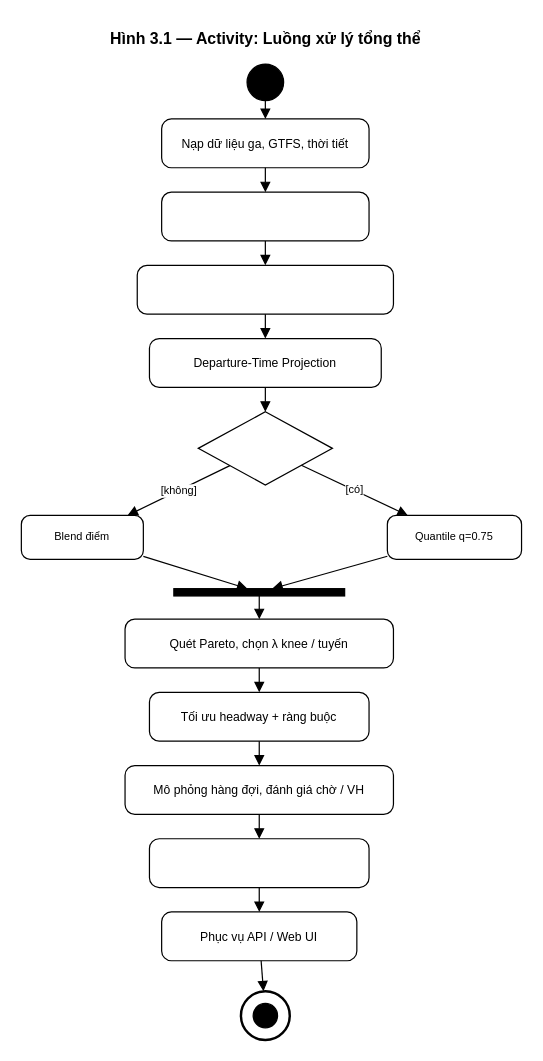
Image size: 543x1061. Some labels were removed from this diagram. Here are the shapes that lost their labels. From the top down, the centre of each, then its label:
At (264,216): "Tiền xử lý và tạo đặc trưng".
At (264,289): "Dự báo nhu cầu cấp ga (MLP + HistGBM)".
At (264,448): "Kịch bản mưa?".
At (258,863): "Xuất ui_export/ (CSV, JSON)".
